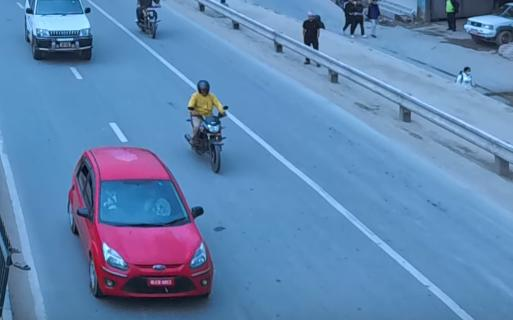bike: (184, 103, 229, 177), (133, 4, 165, 39)
car: (72, 144, 217, 315)
